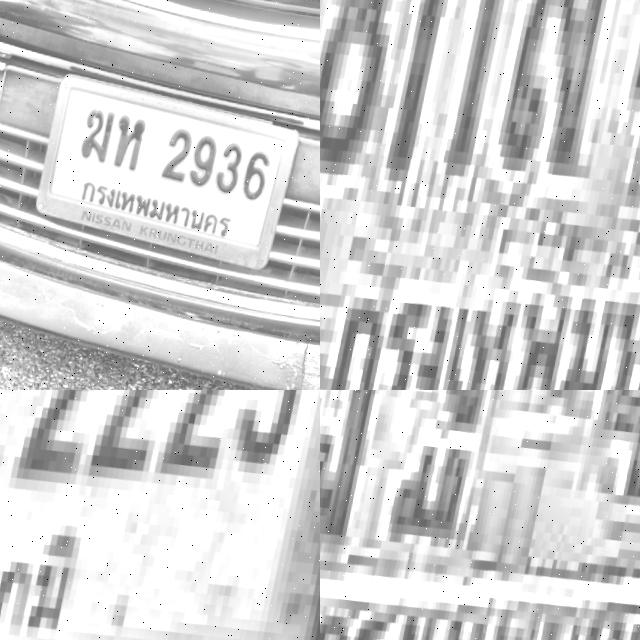license-plate: (320, 0, 640, 390), (0, 390, 320, 640), (320, 390, 640, 640), (25, 65, 311, 285)
